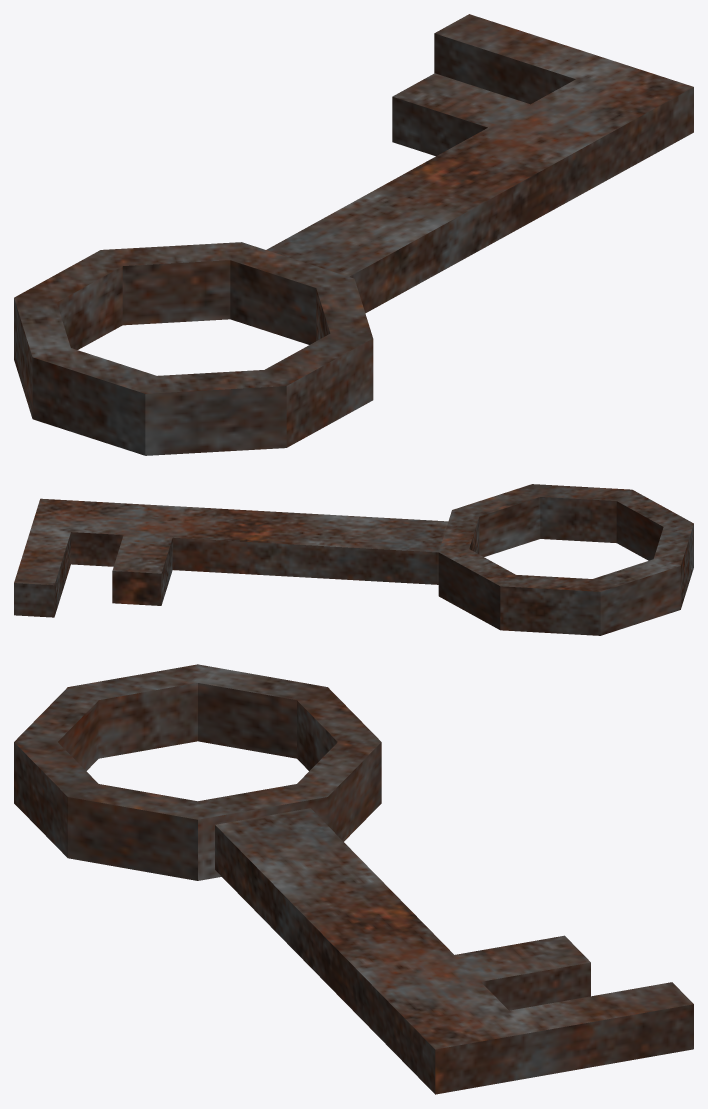
Rendered from key.fbx.
The picture shows the model from 3 angles, top to bottom: view 1: azimuth 30°, elevation 25°; view 2: azimuth 150°, elevation 25°; view 3: azimuth 270°, elevation 25°; orthographic projection. The views are drawn at different scales.
Parts seen in each view (by area): view 1: Cylinder; view 2: Cylinder; view 3: Cylinder.
Part boxes in pixels (<box>): Cylinder: <box>14,14,693,455</box>; Cylinder: <box>14,484,693,635</box>; Cylinder: <box>14,664,693,1094</box>.
Bounding box in the file's own units: 485 × 36.78 × 370.
